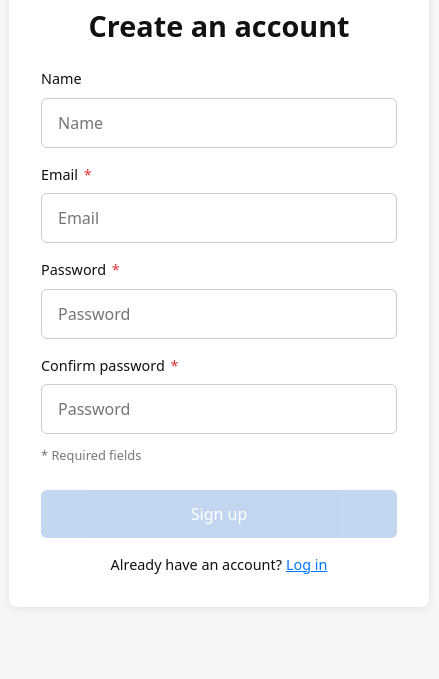
Test case: Signup component › shows error when signupRequest fails
In the field labelled "Name": (219, 123) [41,98,397,148], type "Tester"
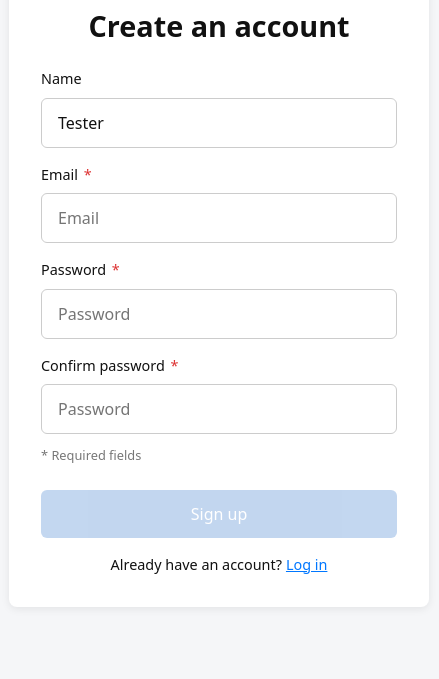
In the field labelled "Email *": (219, 218) [41,193,397,243], type "test@example.com"
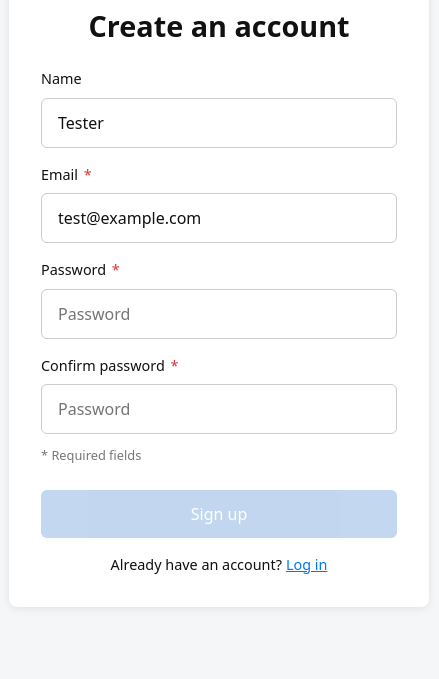
In the password field labelled "Password *": (219, 314) [41,289,397,339], type "abc123"
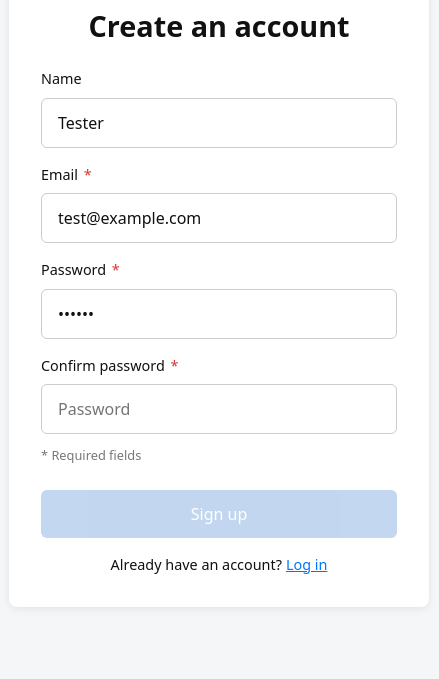
In the password field labelled "Confirm password *": (219, 409) [41,384,397,434], type "abc123"
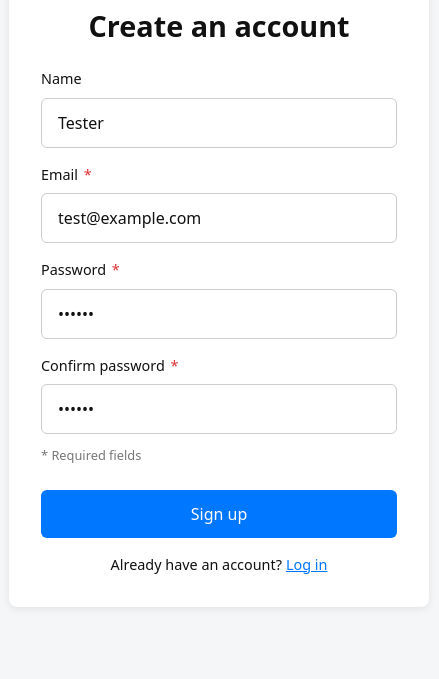
Click the button "Sign up": (219, 514) [41,490,397,538]
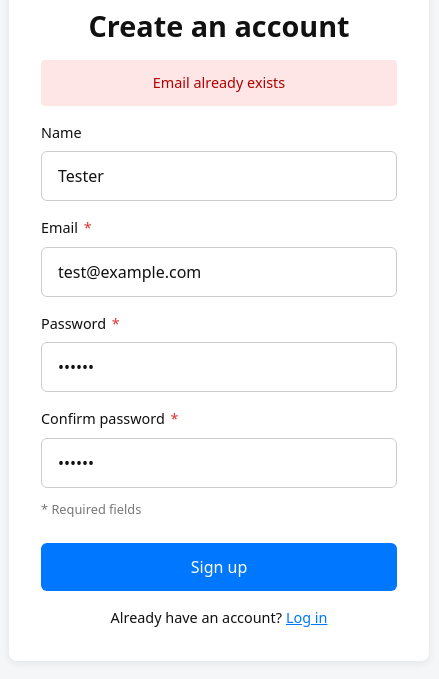
Expected: the text "Email already exists" is shown, [41,60,397,106]
